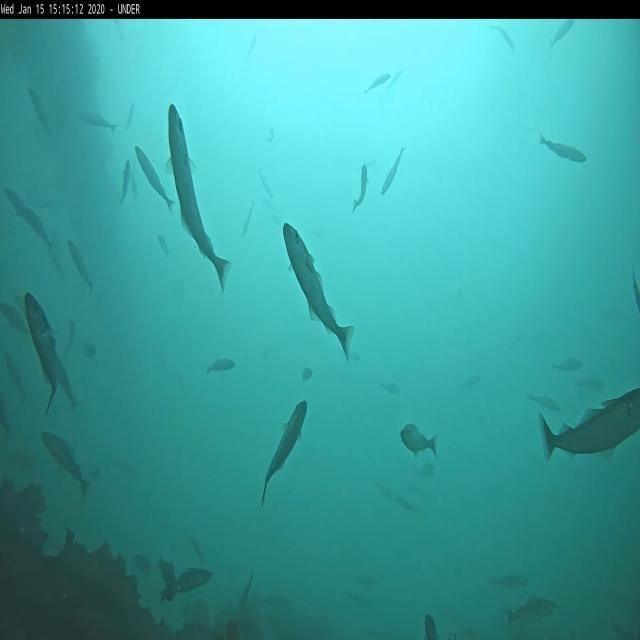fish: (168, 105, 232, 295), (282, 223, 353, 362), (538, 386, 638, 464), (261, 401, 307, 508), (21, 292, 58, 414), (41, 431, 89, 498), (133, 145, 175, 213), (538, 130, 585, 163), (400, 423, 440, 461), (507, 597, 557, 626), (67, 238, 93, 290), (2, 352, 28, 400), (380, 148, 404, 199), (28, 87, 51, 132), (24, 207, 50, 246), (177, 568, 214, 595), (157, 556, 178, 602), (4, 186, 29, 224), (352, 164, 370, 216), (2, 302, 30, 335), (80, 112, 118, 132), (46, 243, 64, 280), (550, 20, 575, 46), (529, 392, 560, 412), (491, 26, 516, 50), (364, 74, 390, 94), (491, 574, 528, 588), (572, 374, 604, 390), (257, 167, 273, 198), (62, 319, 74, 358), (395, 496, 418, 516), (189, 535, 206, 562), (120, 160, 130, 204), (207, 358, 236, 373), (386, 67, 403, 92), (554, 358, 582, 373), (242, 202, 254, 234), (381, 379, 402, 396), (156, 230, 170, 253), (246, 35, 256, 61), (125, 104, 134, 132), (461, 374, 481, 386), (301, 365, 313, 383), (266, 126, 274, 142)
